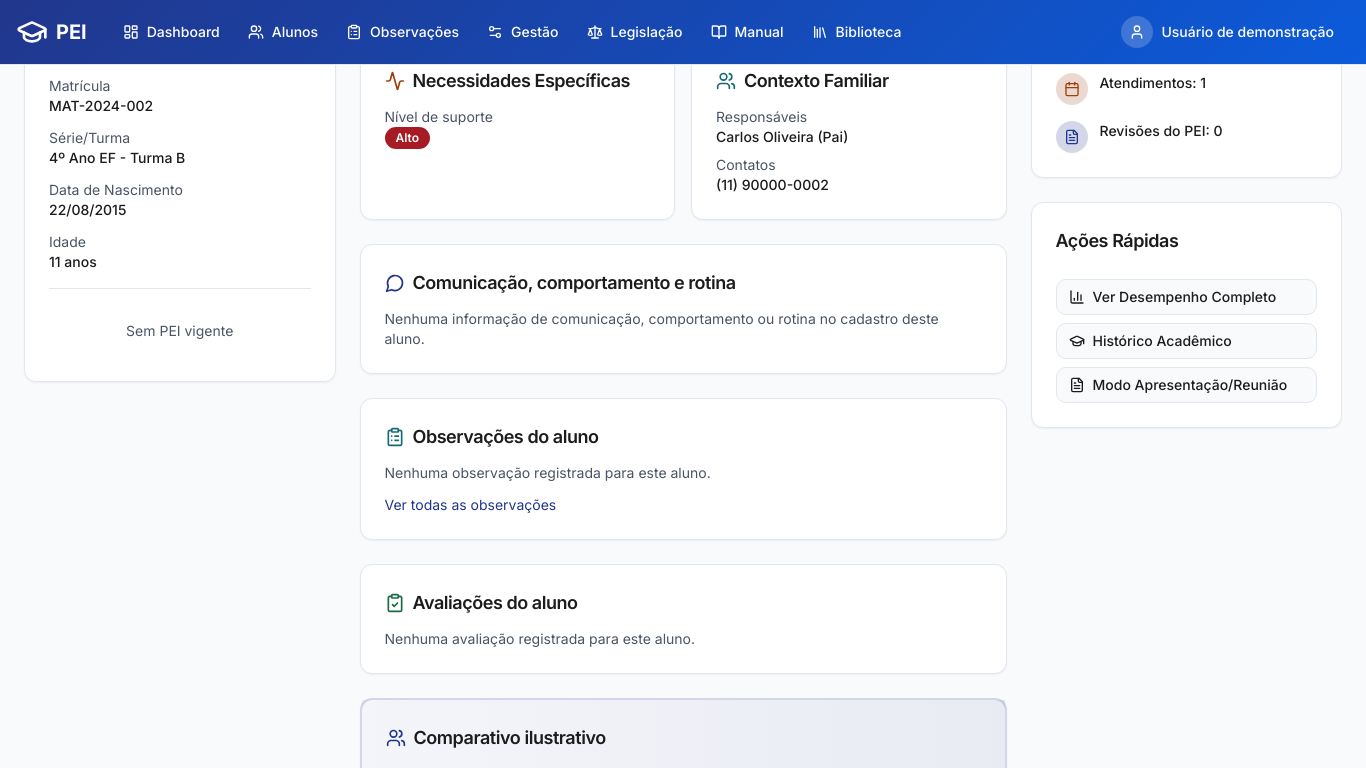
Scenario: Modo Apresentação: os slides vêm do plano › estudante sem plano vigente não tem apresentação, e o botão de iniciar nem aparece
(page scrolled)
What coordinates should you click on to do the following:
click the button "Modo Apresentação/Reunião"
I would click on:
 (1186, 384)
Its box is x1=1056 y1=366 x2=1317 y2=402.
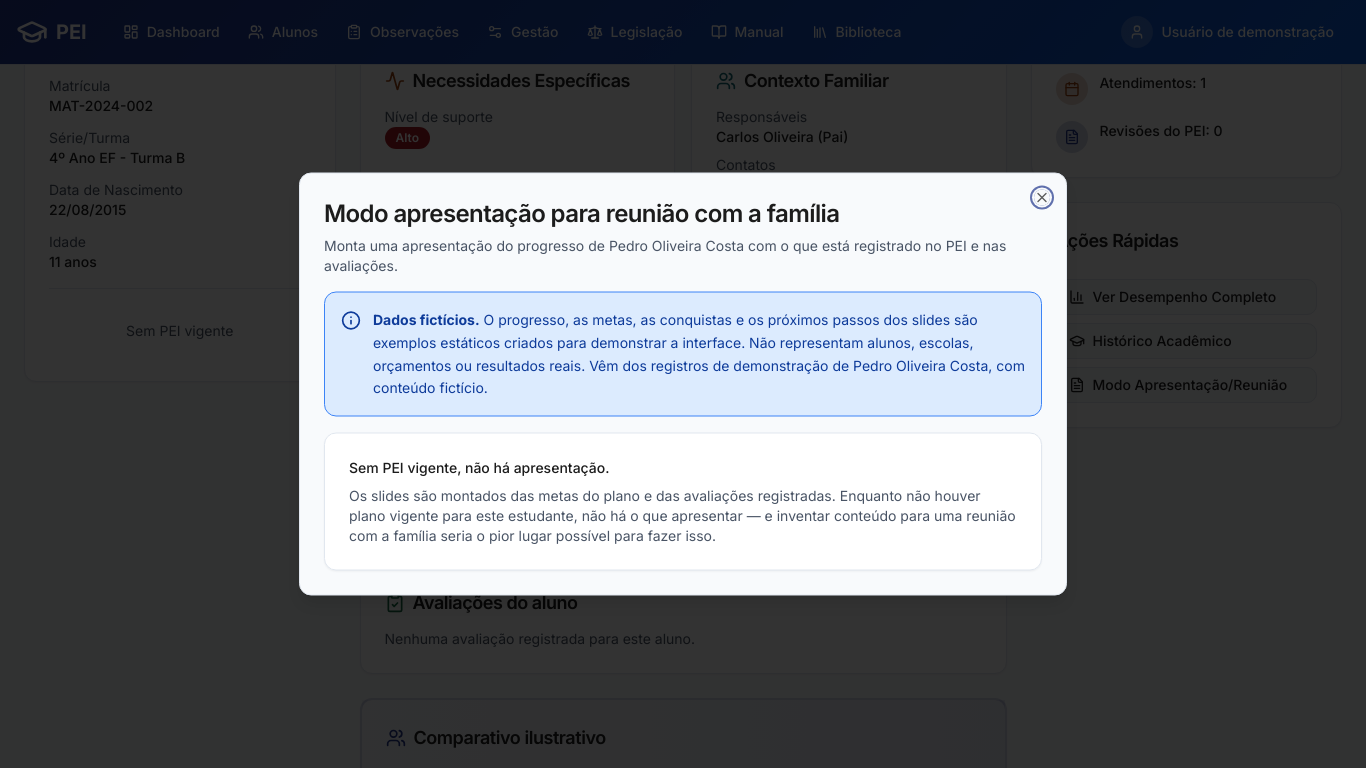
Expected: the text "Sem PEI vigente, não há apresentação." is shown, x1=349 y1=458 x2=610 y2=476
